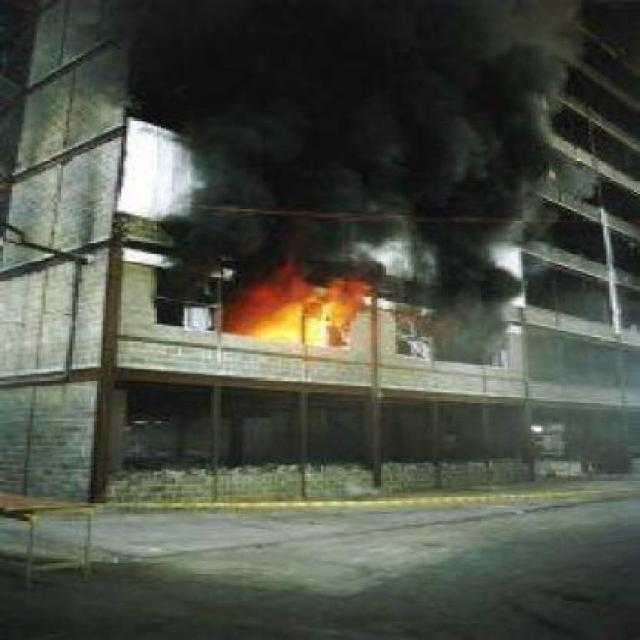Fire: (214, 220, 426, 365)
Smoke: (98, 0, 594, 282)
